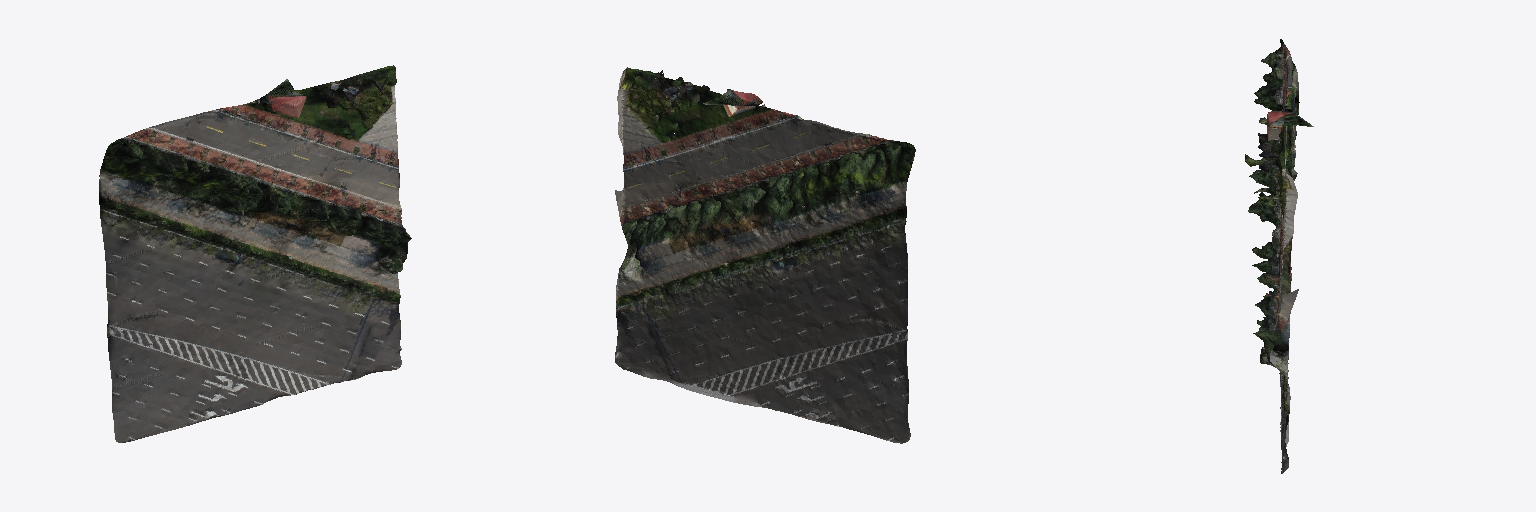
3 views of the same model, side by side, from view 1: azimuth 30°, elevation 25°; view 2: azimuth 150°, elevation 25°; view 3: azimuth 270°, elevation 25° (orthographic).
Visible parts, largest first — view 1: Mesh; view 2: Mesh; view 3: Mesh.
Part boxes in pixels (left/top/right/bottom): Mesh: left=99, top=65, right=411, bottom=442; Mesh: left=615, top=67, right=915, bottom=443; Mesh: left=1245, top=39, right=1313, bottom=473.
Size of the model in its own units: 61.65 by 61.56 by 12.6.
Materials: 1 (1 with a texture image).